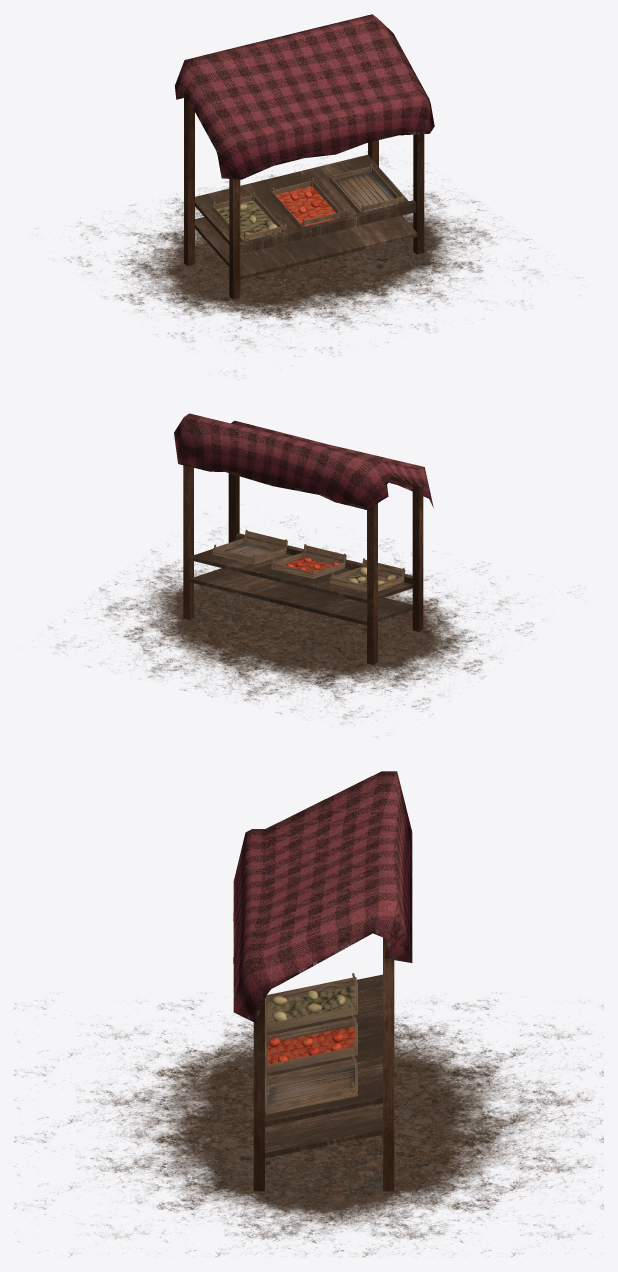
Rendered from stall2.glb.
3 views of the same model, one above another, from view 1: azimuth 30°, elevation 25°; view 2: azimuth 150°, elevation 25°; view 3: azimuth 270°, elevation 25° (orthographic). The views are drawn at different scales.
Visible parts, largest first — view 1: defaultMaterial (×4); view 2: defaultMaterial (×2); view 3: defaultMaterial (×5).
Part boxes in pixels (x1,y1,x2,y2): defaultMaterial (×4): (65, 14, 579, 371); defaultMaterial (×2): (47, 413, 570, 736); defaultMaterial (×5): (14, 771, 603, 1256).
Size of the model in its own units: 586 by 296 by 549.
Materials: 5 (5 with a texture image).
